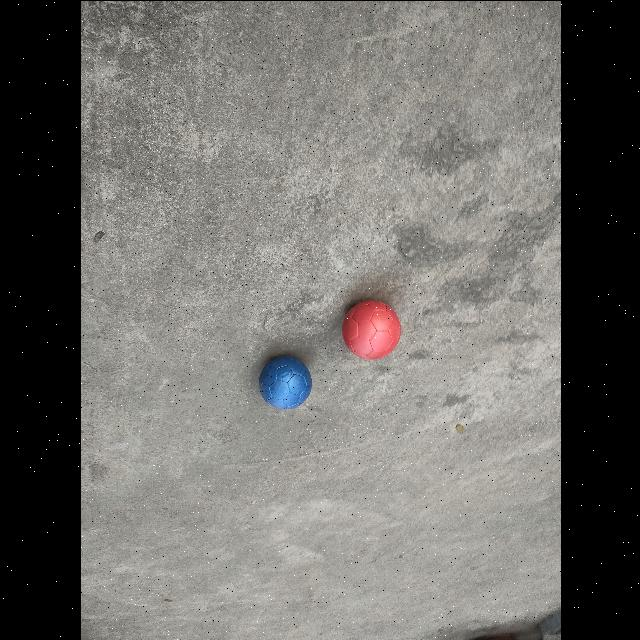B: (258, 354, 312, 408)
R: (340, 297, 400, 358)
